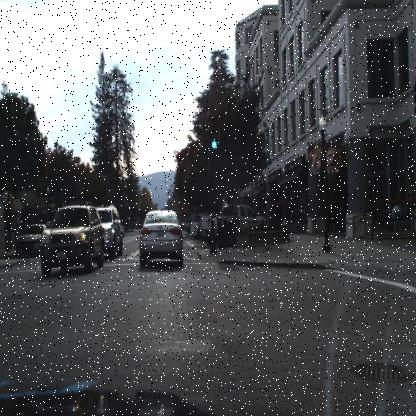car: (41, 205, 104, 277), (139, 208, 182, 270), (202, 204, 266, 240), (102, 203, 123, 259), (189, 214, 199, 235)
trafficLight-Green: (210, 126, 218, 149)
